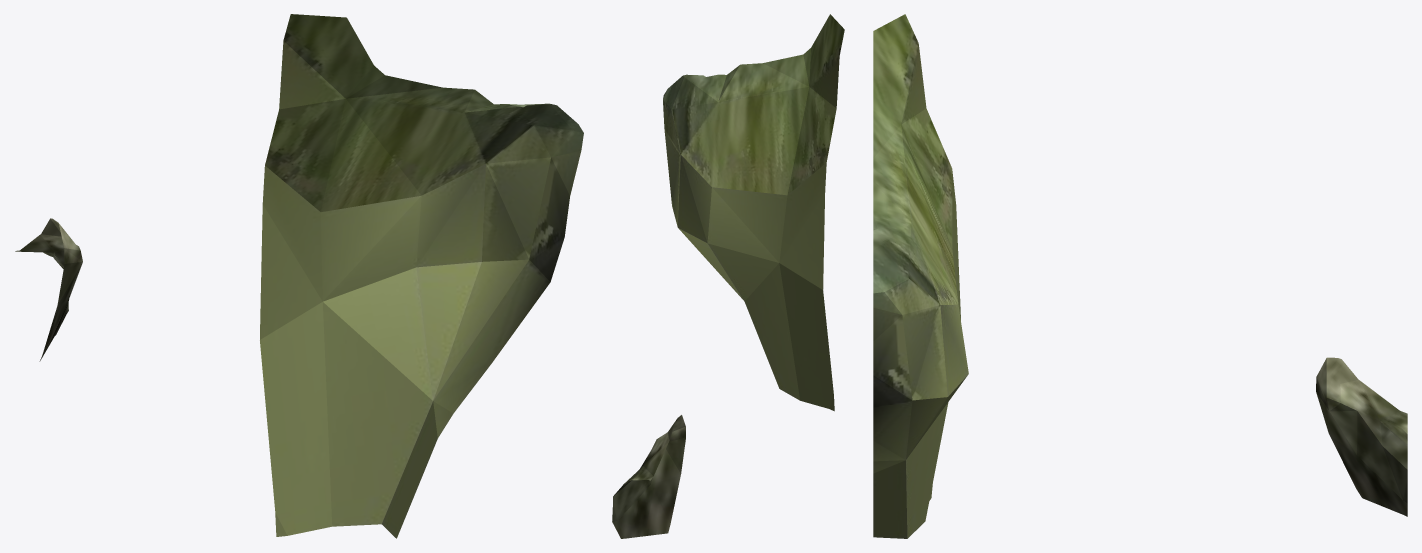
3 renders of one model, left to right at view 1: azimuth 30°, elevation 25°; view 2: azimuth 150°, elevation 25°; view 3: azimuth 270°, elevation 25°, orthographic. The views are drawn at different scales.
Bounding box in the file's own units: 1.59 × 2.95 × 2.95.
1 material, 1 textured.
